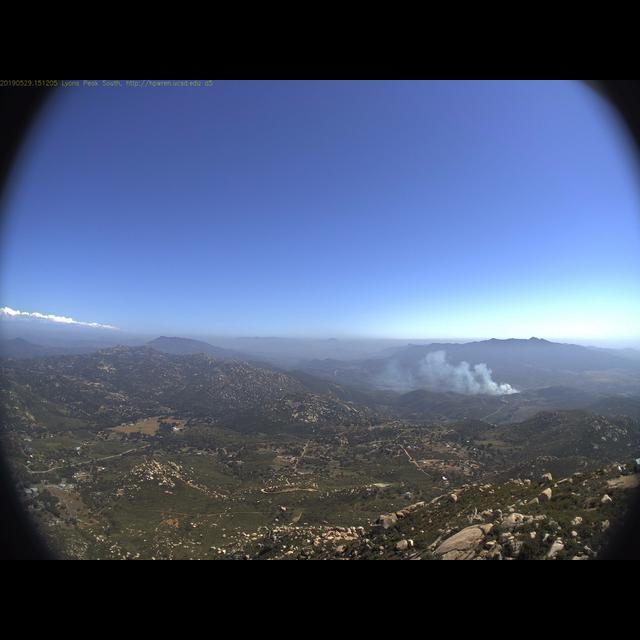Smoke: (374, 345, 522, 398)
